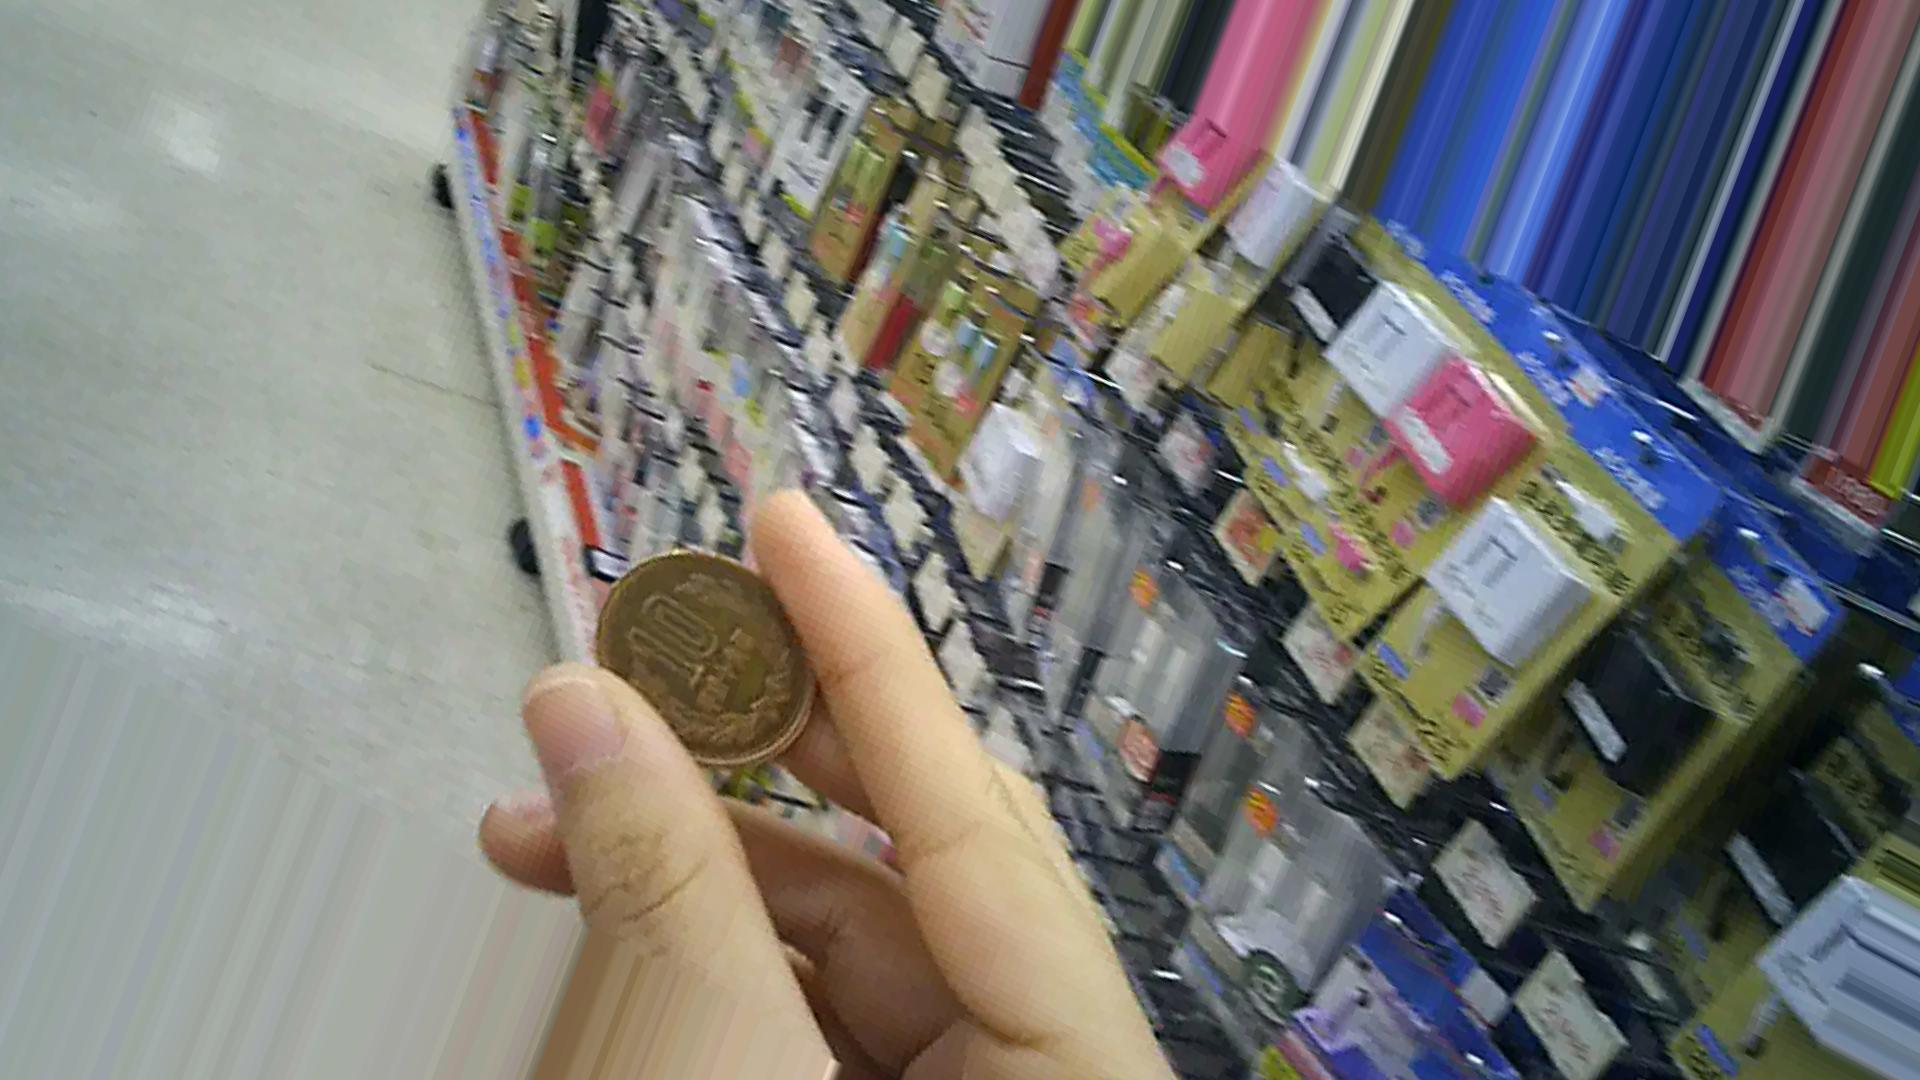10 Yen: (579, 551, 824, 779)
